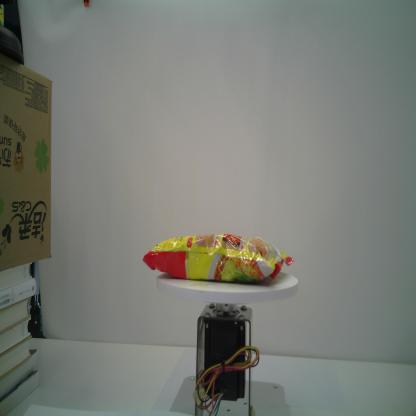Instant Noodles: (142, 230, 294, 285)
